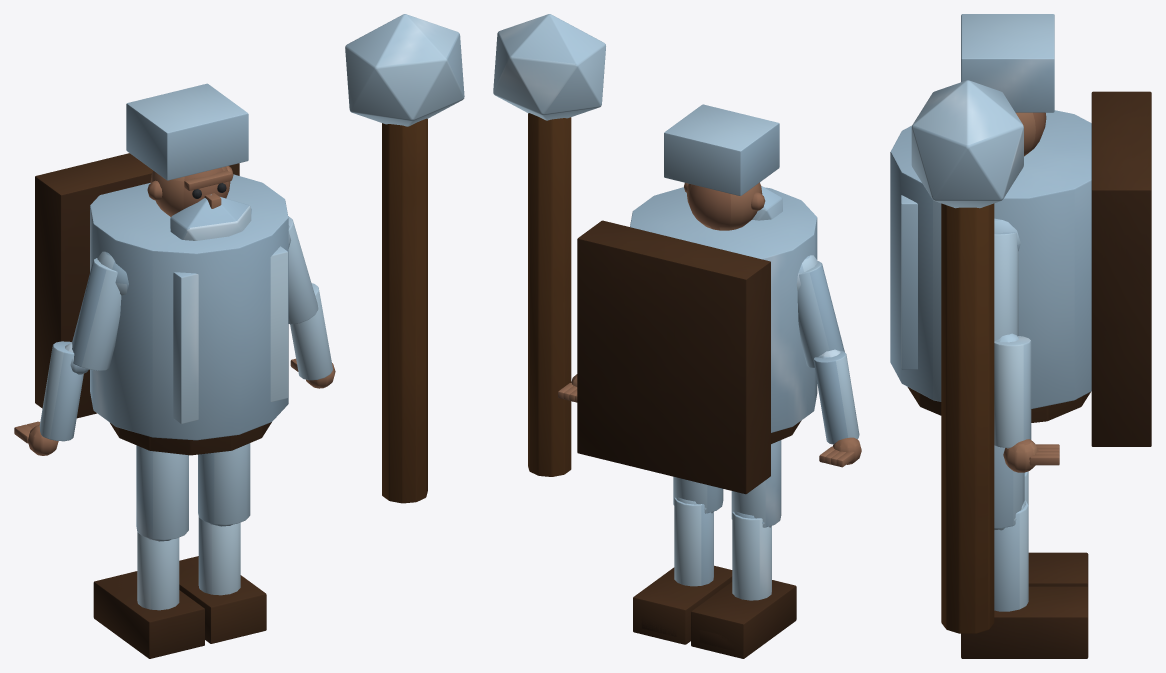
File: unit_outcast_frost_giant.fbx
The picture shows the model from 3 angles, left to right: view 1: azimuth 30°, elevation 25°; view 2: azimuth 150°, elevation 25°; view 3: azimuth 270°, elevation 25°; orthographic projection. The views are drawn at different scales.
Parts seen in each view (by area): view 1: unit_outcast_frost_giant; view 2: unit_outcast_frost_giant; view 3: unit_outcast_frost_giant.
Boxes of the visible parts, <box> form: unit_outcast_frost_giant: <box>14,14,464,658</box>; unit_outcast_frost_giant: <box>493,14,861,658</box>; unit_outcast_frost_giant: <box>890,14,1151,658</box>.
Size of the model in its own units: 3.41 by 4.66 by 1.68.
